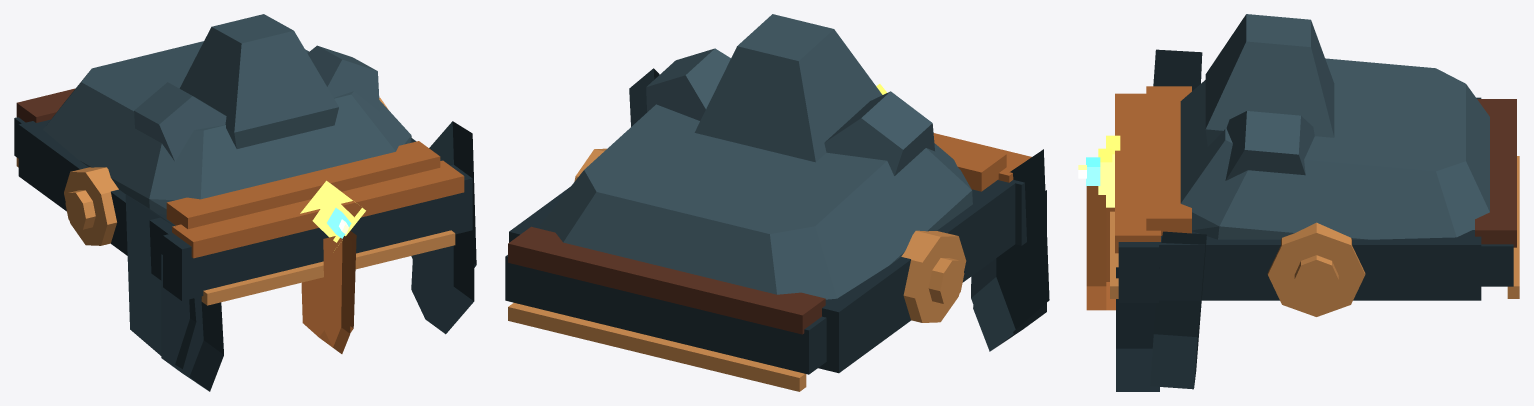
Rendered from Wachthelm_von_Ahnhoehe_Mani_Neufassung.glb.
3 renders of one model, left to right at view 1: azimuth 30°, elevation 25°; view 2: azimuth 150°, elevation 25°; view 3: azimuth 270°, elevation 25°, orthographic. The views are drawn at different scales.
Visible parts, largest first — view 1: Helmet_Square_Dome.001, Band_Front.001, Band_Bronze_Front.001, Band_Bronze_Front, Band_Left.001, Eye_Cutout_Tail_Right.001, Eye_Cutout_Tail_Left, Eye_Cutout_Tail_Left.001, Band_Edge_Front.001, Helmet_Nose_Guard, Temple_Rivet_Left, Helmet_Nose_Guard.001 (+5 smaller); view 2: Helmet_Square_Dome.001, Band_Back.001, Band_Bronze_Back.001, Band_Left.001, Eye_Cutout_Tail_Left, Band_Edge_Front, Temple_Rivet_Left, Band_Bronze_Front, Temple_Rivet_Left.001, Eye_Cutout_Tail_Right, Band_Bronze_Front.001, Band_Front.001 (+2 smaller); view 3: Helmet_Square_Dome.001, Band_Right.001, Band_Bronze_Front, Temple_Rivet_Right.001, Band_Bronze_Front.001, Eye_Cutout_Tail_Right, Band_Bronze_Back.001, Eye_Cutout_Tail_Right.001, Helmet_Nose_Guard, Band_Front.001, Eye_Cutout_Tail_Left, Temple_Rivet_Right (+7 smaller).
Boxes of the visible parts, x1=… form: Helmet_Square_Dome.001: x1=43, y1=14, x2=411, y2=214; Band_Front.001: x1=163, y1=164, x2=472, y2=300; Band_Bronze_Front.001: x1=172, y1=160, x2=464, y2=258; Band_Bronze_Front: x1=166, y1=141, x2=440, y2=228; Band_Left.001: x1=18, y1=120, x2=175, y2=280; Eye_Cutout_Tail_Right.001: x1=411, y1=197, x2=474, y2=334; Eye_Cutout_Tail_Left: x1=125, y1=194, x2=196, y2=369; Eye_Cutout_Tail_Left.001: x1=161, y1=254, x2=223, y2=391; Band_Edge_Front.001: x1=201, y1=230, x2=455, y2=305; Helmet_Nose_Guard: x1=323, y1=236, x2=351, y2=353; Temple_Rivet_Left: x1=64, y1=167, x2=118, y2=245; Helmet_Nose_Guard.001: x1=301, y1=231, x2=356, y2=347; Helmet_Square_Dome.001: x1=539, y1=14, x2=972, y2=299; Band_Back.001: x1=505, y1=255, x2=826, y2=374; Band_Bronze_Back.001: x1=508, y1=226, x2=825, y2=334; Band_Left.001: x1=818, y1=180, x2=1015, y2=373; Eye_Cutout_Tail_Left: x1=971, y1=149, x2=1049, y2=350; Band_Edge_Front: x1=508, y1=303, x2=806, y2=391; Temple_Rivet_Left: x1=901, y1=230, x2=966, y2=322; Band_Bronze_Front: x1=934, y1=136, x2=1006, y2=191; Temple_Rivet_Left.001: x1=928, y1=258, x2=964, y2=304; Eye_Cutout_Tail_Right: x1=629, y1=68, x2=659, y2=126; Band_Bronze_Front.001: x1=933, y1=133, x2=1031, y2=182; Band_Front.001: x1=1011, y1=180, x2=1026, y2=245; Helmet_Square_Dome.001: x1=1180, y1=14, x2=1489, y2=239; Band_Right.001: x1=1156, y1=230, x2=1481, y2=300; Band_Bronze_Front: x1=1146, y1=86, x2=1191, y2=235; Temple_Rivet_Right.001: x1=1267, y1=222, x2=1365, y2=316; Band_Bronze_Front.001: x1=1115, y1=93, x2=1160, y2=253; Eye_Cutout_Tail_Right: x1=1150, y1=231, x2=1206, y2=389; Band_Bronze_Back.001: x1=1475, y1=99, x2=1516, y2=247; Eye_Cutout_Tail_Right.001: x1=1116, y1=267, x2=1159, y2=391; Helmet_Nose_Guard: x1=1086, y1=186, x2=1106, y2=310; Band_Front.001: x1=1118, y1=242, x2=1158, y2=302; Eye_Cutout_Tail_Left: x1=1153, y1=49, x2=1202, y2=90; Temple_Rivet_Right: x1=1294, y1=255, x2=1338, y2=299.
Size of the model in its own units: 0.4647 by 0.3797 by 0.5021.
